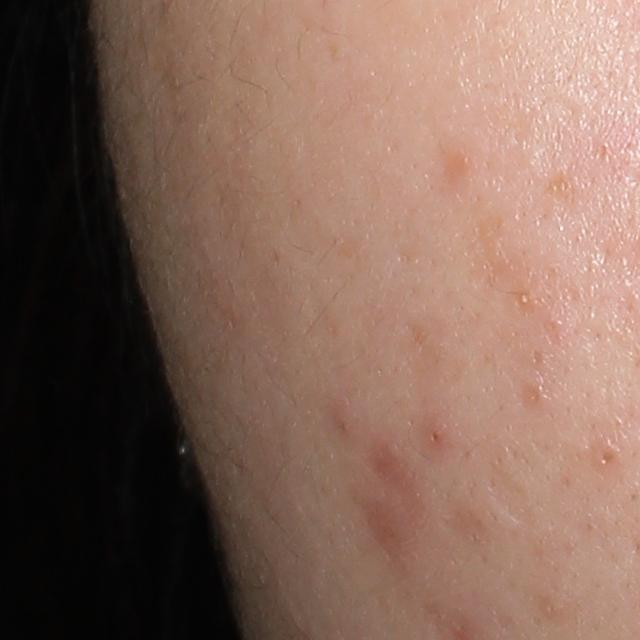comedo: (593, 439, 619, 470)
papule: (424, 420, 451, 448)
